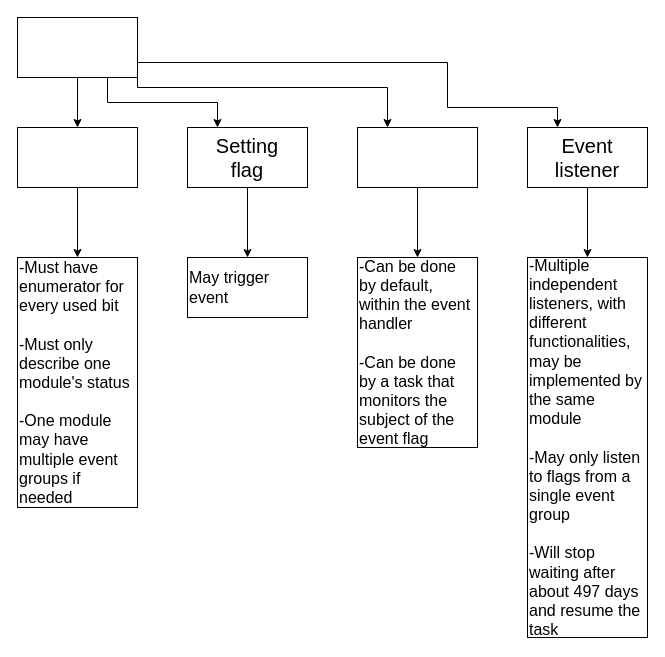
This 665x657 diagram has some shape labels left out. Each missing label, with the centre of its shape:
"16 bits (flags)" belongs at (77,157).
"Clearing flag" belongs at (417,157).
"Event group" belongs at (77,47).
